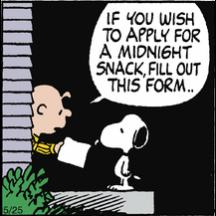charlie: (31, 83, 75, 157)
snoopy: (92, 114, 152, 192)
